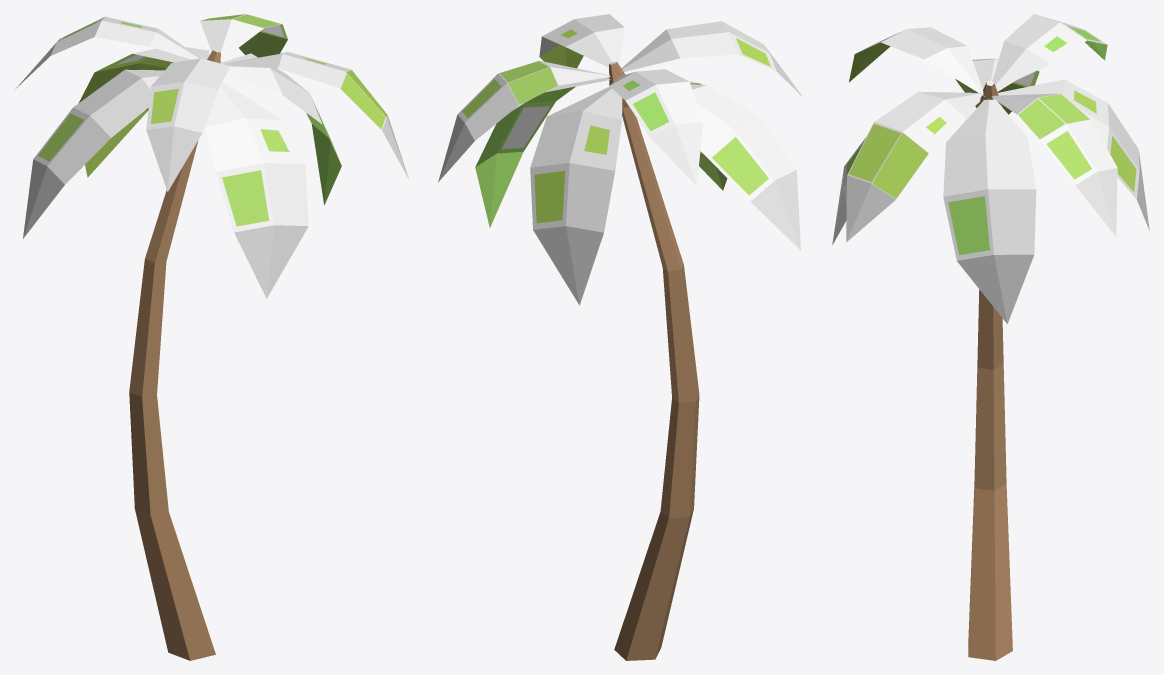
The model's file is Palm_Tree_m_Snow_BT_03.fbx.
The picture shows the model from 3 angles, left to right: view 1: azimuth 30°, elevation 25°; view 2: azimuth 150°, elevation 25°; view 3: azimuth 270°, elevation 25°; orthographic projection. The views are drawn at different scales.
Parts seen in each view (by area): view 1: Palm_Tree_m_Snow_BT_03; view 2: Palm_Tree_m_Snow_BT_03; view 3: Palm_Tree_m_Snow_BT_03.
Boxes of the visible parts, x1,y1,x2,y2 form: Palm_Tree_m_Snow_BT_03: (15,14,409,660); Palm_Tree_m_Snow_BT_03: (438,14,802,660); Palm_Tree_m_Snow_BT_03: (832,14,1149,660).
Size of the model in its own units: 301 by 563 by 269.
